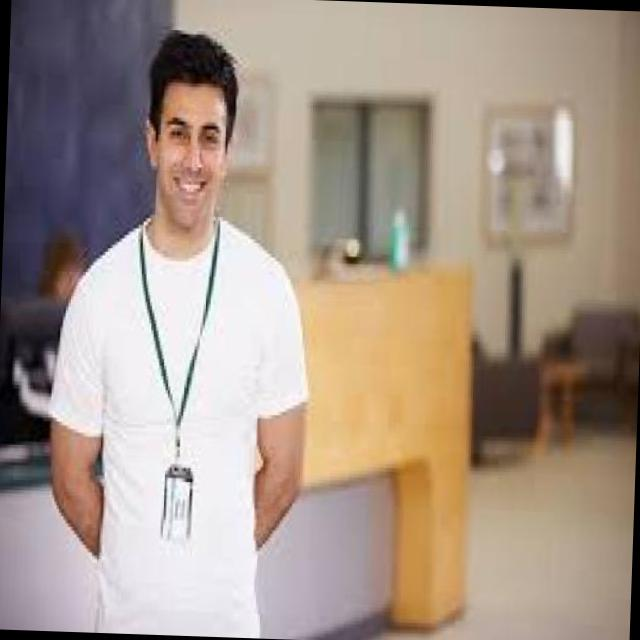id_card: (126, 216, 228, 547)
